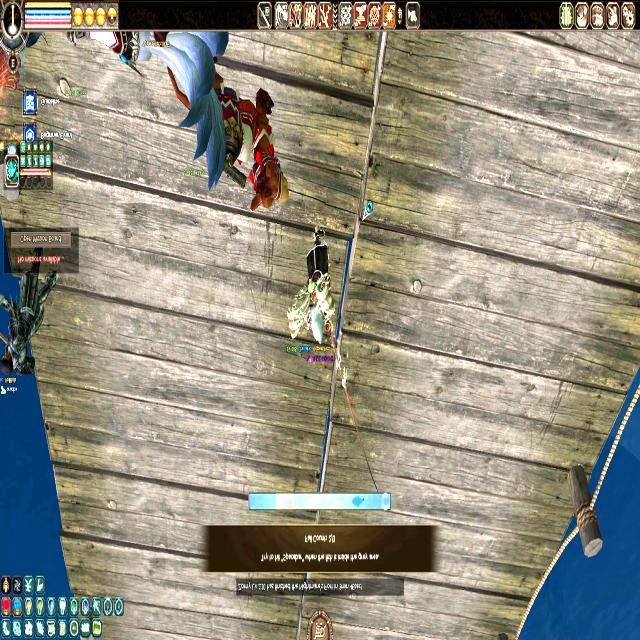fishes: (353, 496, 364, 508)
